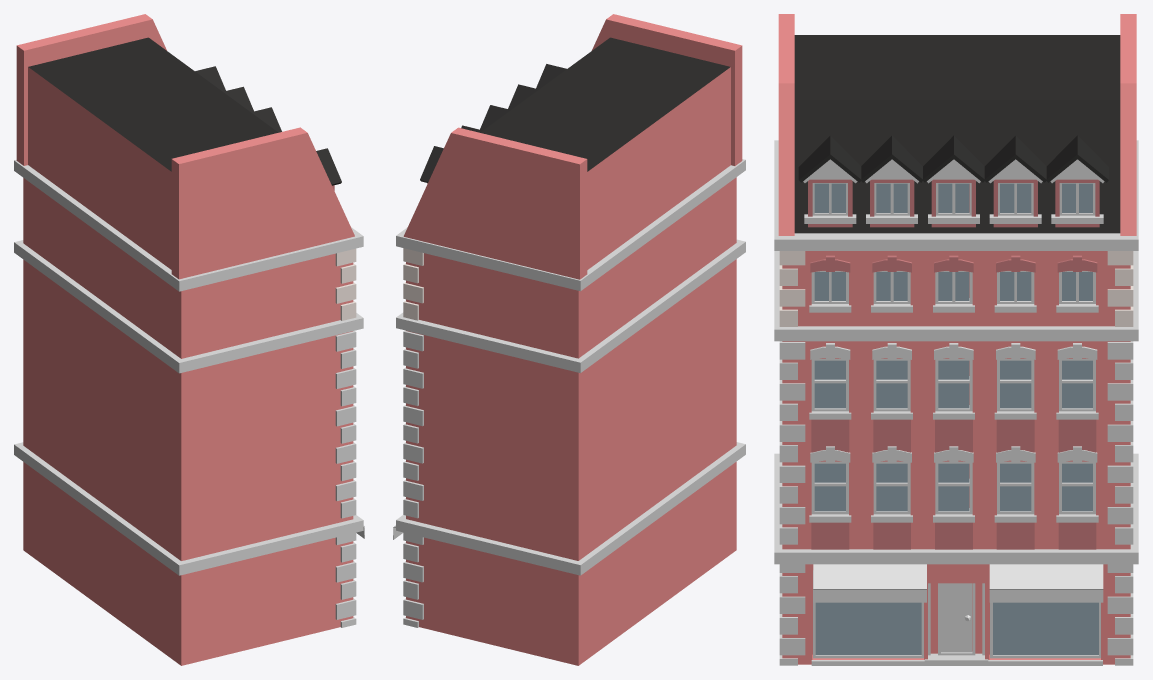
Rendered from pink-house.fbx.
The picture shows the model from 3 angles, left to right: view 1: azimuth 30°, elevation 25°; view 2: azimuth 150°, elevation 25°; view 3: azimuth 270°, elevation 25°; orthographic projection. The views are drawn at different scales.
Parts seen in each view (by area): view 1: Cube.055, Cube.060, Cube.061, Cube.052, Cube.064; view 2: Cube.055, Cube.060, Cube.061, Cube.052, Cube.064; view 3: Cube.055, Cube.059, Cube.052, Cube.053, Cube.062, Plane.001, Cube.060, Cube.061, Cube.057, Cube.064.
Part boxes in pixels (bbox=[...]): Cube.055: bbox=[14, 14, 363, 665]; Cube.060: bbox=[335, 330, 356, 518]; Cube.061: bbox=[335, 532, 356, 627]; Cube.052: bbox=[195, 66, 341, 190]; Cube.064: bbox=[335, 248, 356, 320]; Cube.055: bbox=[396, 14, 745, 665]; Cube.060: bbox=[403, 330, 423, 518]; Cube.061: bbox=[403, 532, 423, 627]; Cube.052: bbox=[420, 64, 566, 183]; Cube.064: bbox=[403, 248, 423, 320]; Cube.055: bbox=[774, 14, 1138, 664]; Cube.059: bbox=[809, 343, 1098, 549]; Cube.052: bbox=[798, 135, 1108, 227]; Cube.053: bbox=[811, 570, 1102, 665]; Cube.062: bbox=[809, 255, 1098, 312]; Plane.001: bbox=[813, 564, 1103, 602]; Cube.060: bbox=[779, 341, 1133, 544]; Cube.061: bbox=[779, 564, 1133, 665]; Cube.057: bbox=[924, 583, 988, 665]; Cube.064: bbox=[779, 251, 1133, 326].
Bounding box in the file's own units: 721 × 1708 × 1014.
